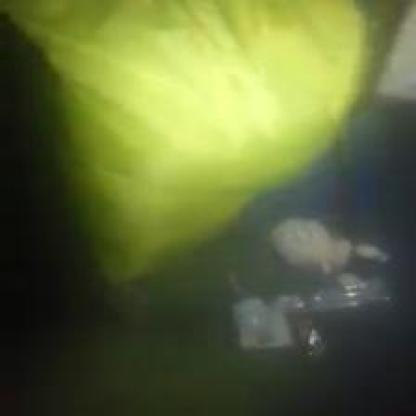other: (30, 9, 372, 245)
